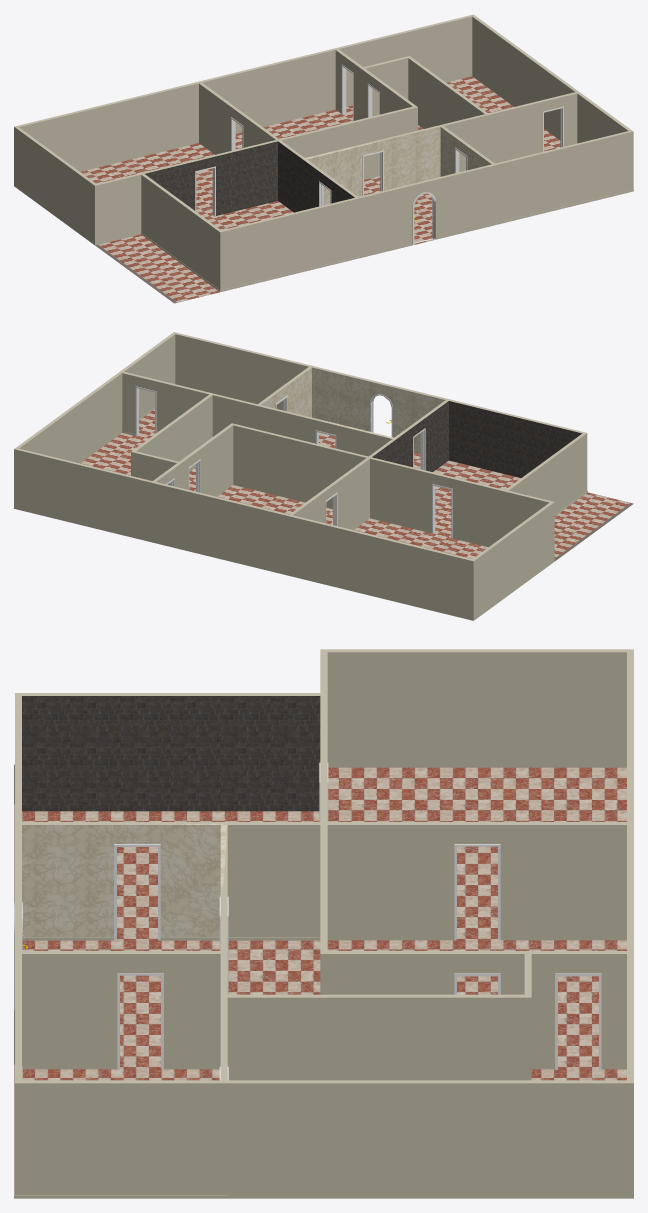
The model's file is house03.gltf.
3 views of the same model, one above another, from view 1: azimuth 30°, elevation 25°; view 2: azimuth 150°, elevation 25°; view 3: azimuth 270°, elevation 25° (orthographic). The views are drawn at different scales.
Parts seen in each view (by area): view 1: house03, ground; view 2: house03, ground; view 3: house03, ground.
Boxes of the visible parts, x1,y1,x2,y2 form: house03: [14, 14, 633, 303]; ground: [80, 76, 560, 302]; house03: [14, 332, 633, 620]; ground: [80, 409, 629, 558]; house03: [14, 649, 633, 1198]; ground: [22, 767, 626, 1080].
Bounding box in the file's own units: 202 × 25 × 122.
5 materials, 3 textured.
